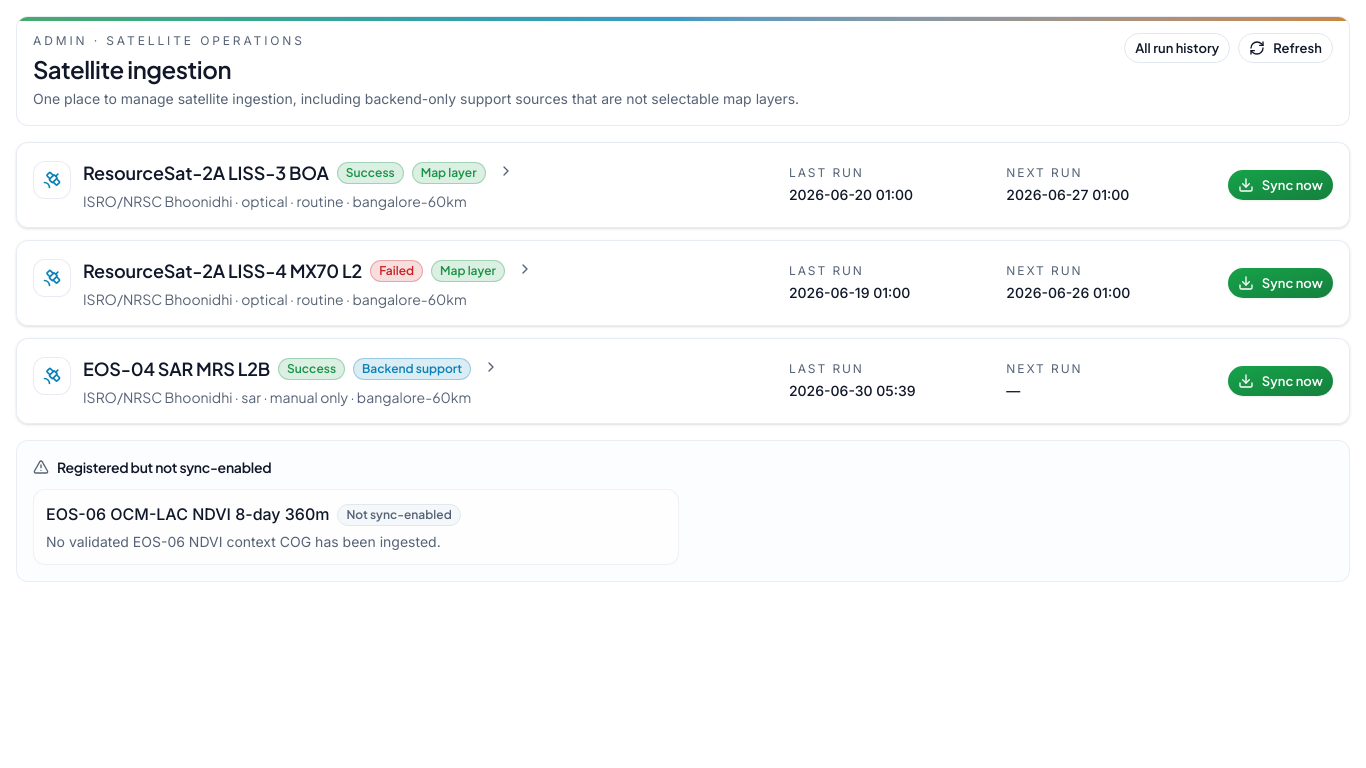
AdminIngestionSources › renders expandable satellite cards with last run, next run, counts, and product rows
This screenshot has width=1366, height=768.
Expected: the heading "Satellite ingestion" is shown, [33, 54, 231, 84]
Expected: the text "ResourceSat-2A LISS-3 BOA" is shown, [83, 159, 329, 187]
Click the button with aria-label "Expand ResourceSat-2A LISS-3 BOA": coordinates (403, 185) [33, 159, 773, 211]
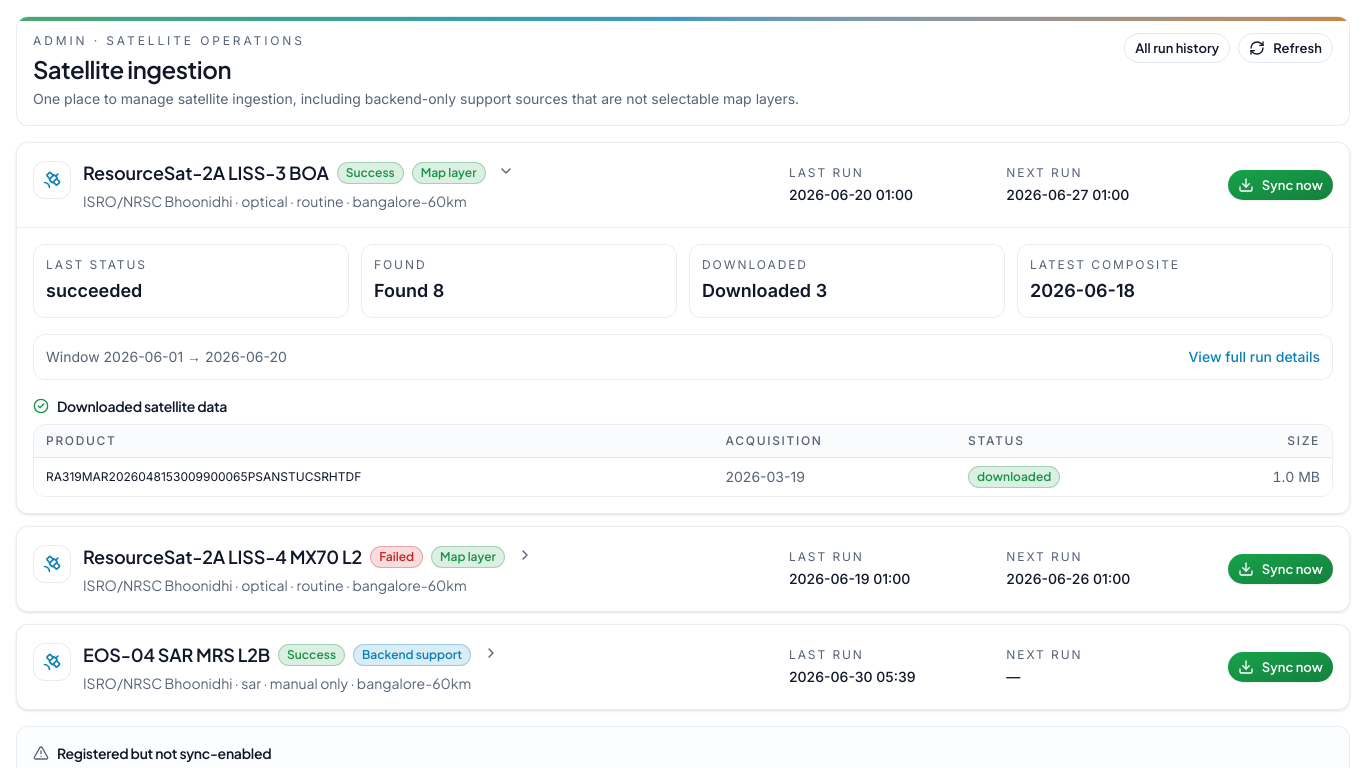
Result: the text "Found 8" is shown at [374, 280, 444, 301]
Result: the text "Downloaded 3" is shown at [702, 280, 827, 301]
Result: the text "Window 2026-06-01 → 2026-06-20" is shown at [46, 347, 287, 367]
